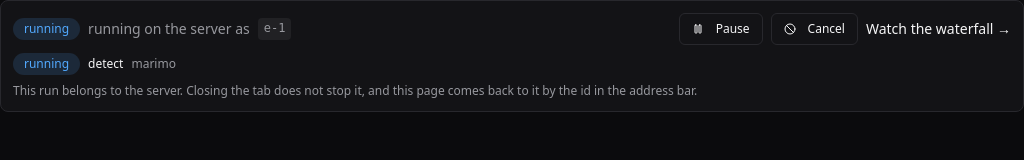
Test case: commanding a managed run › shows a cancel the run has already moved past
Step 1. Click the button "Cancel" → click(814, 29), box [771,13,858,45]
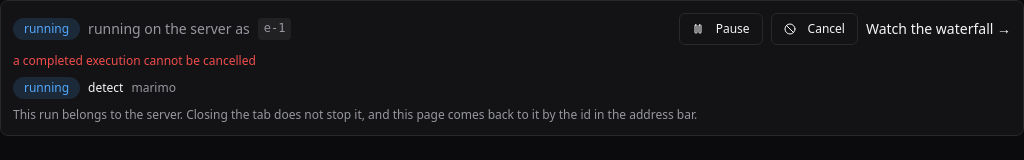
Expected: the text "a completed execution cannot be cancelled" is shown, [13,52,256,69]
